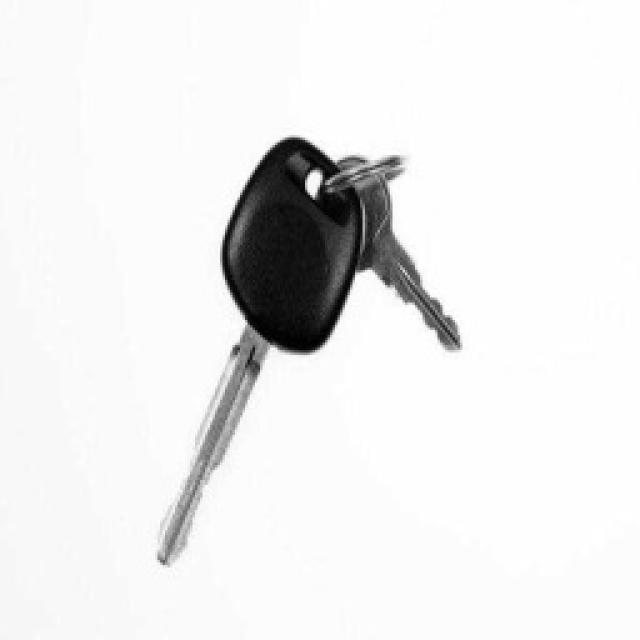anahtar: (149, 106, 368, 640)
